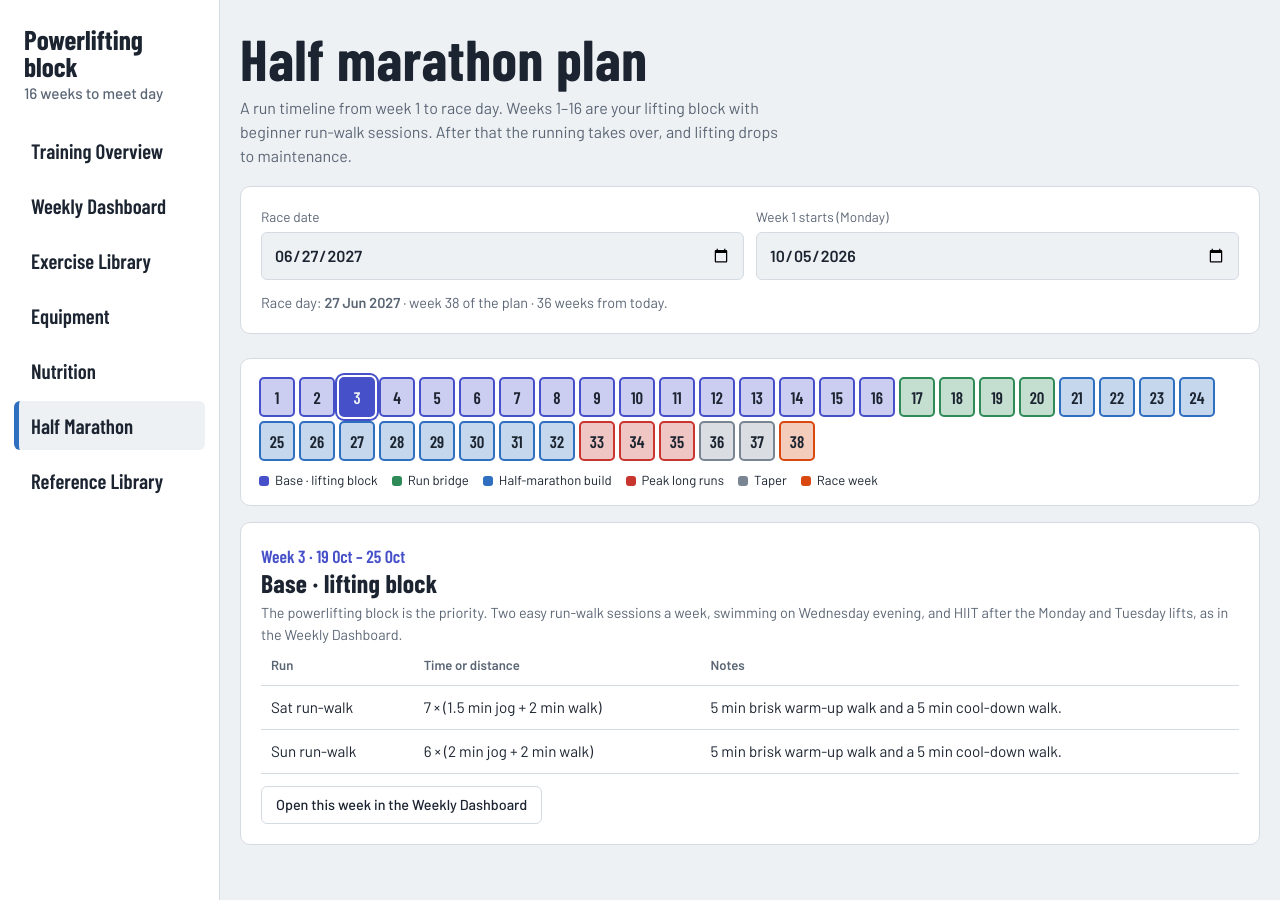
Test: nutrition and half marathon › shows the race plan and opens a week in the dashboard
The width and height of the screenshot is (1280, 900).
Earlier steps of the test are not shown.
Later steps or results of the test are not shown.
Step 1. Type "2026-12-01" into the date field with id "hmrace" → [502, 256], box [261,232,744,280]
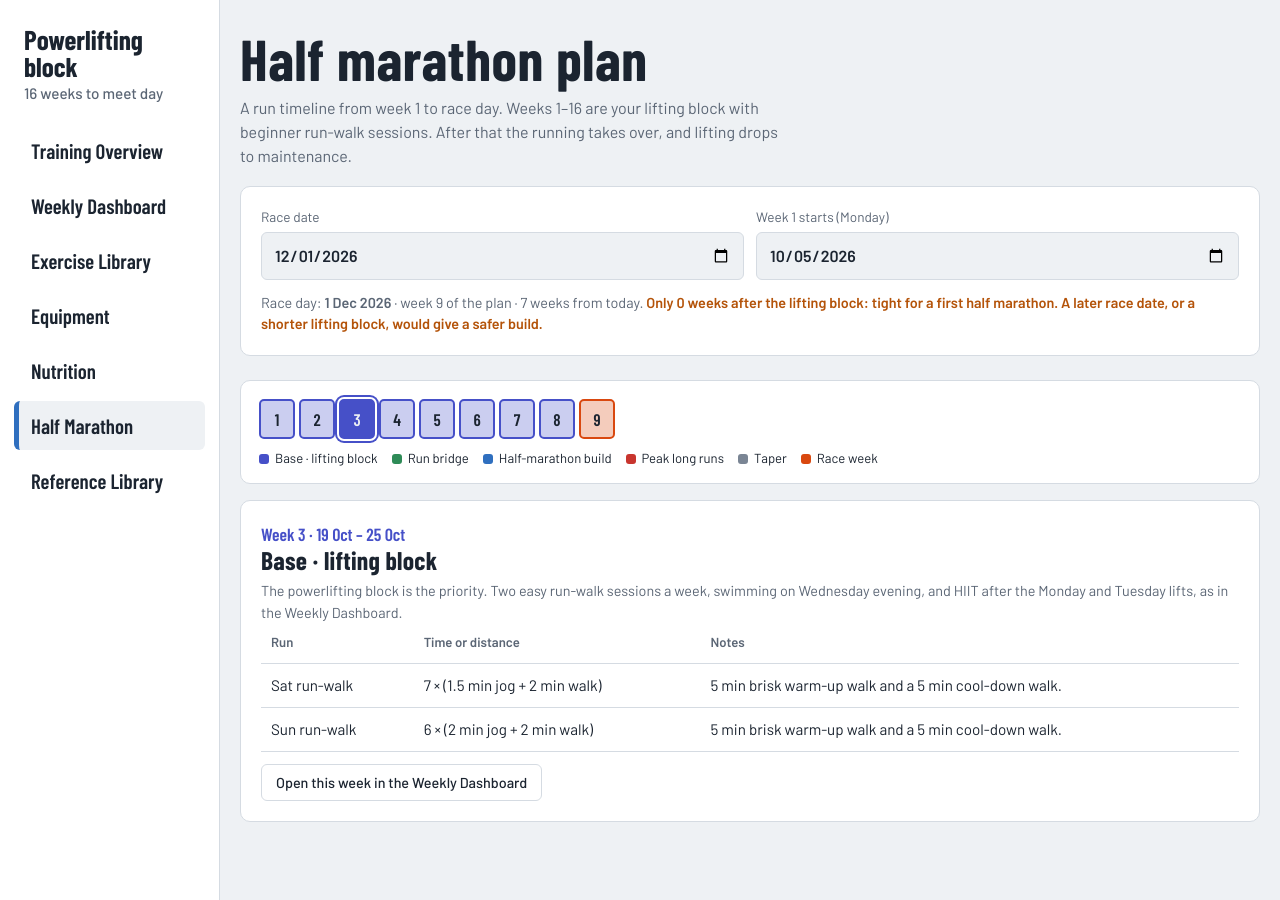
Expected: the element with id "hmsummary" shows "Only", [646,294,676,311]
